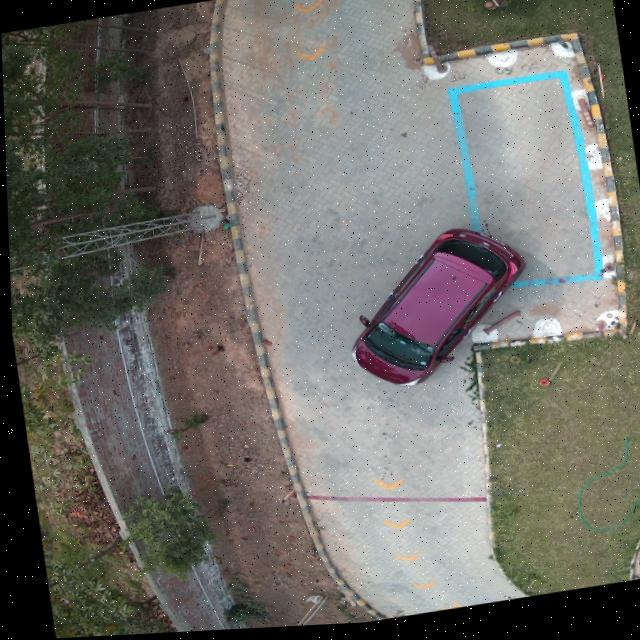car: (349, 232, 522, 389)
